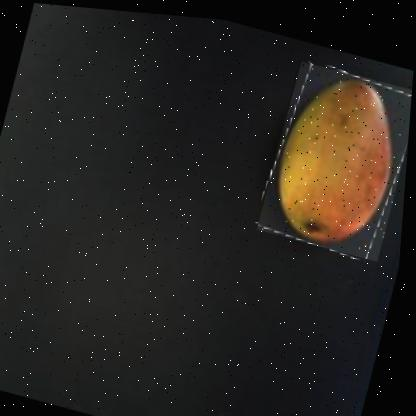mango: (257, 50, 413, 256)
